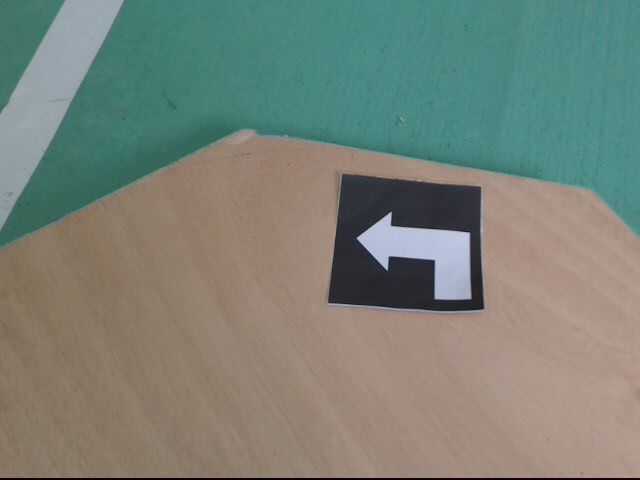left: (326, 170, 488, 314)
